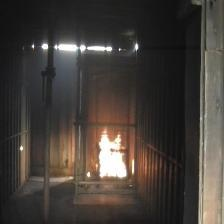fire: (93, 127, 136, 186)
